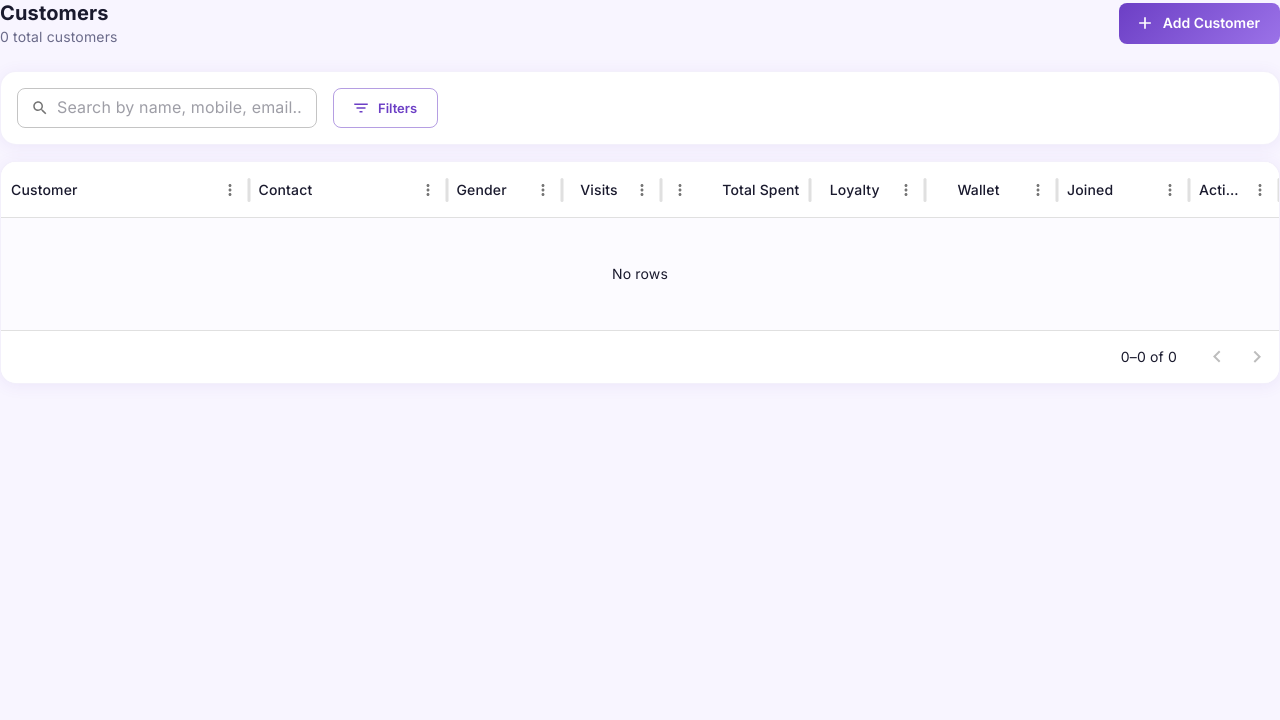
Scenario: CustomersPage – Add Customer dialog › shows validation errors when submitting empty form
This screenshot has width=1280, height=720.
Click the button "Add Customer": (1199, 23) [1119,3,1279,44]
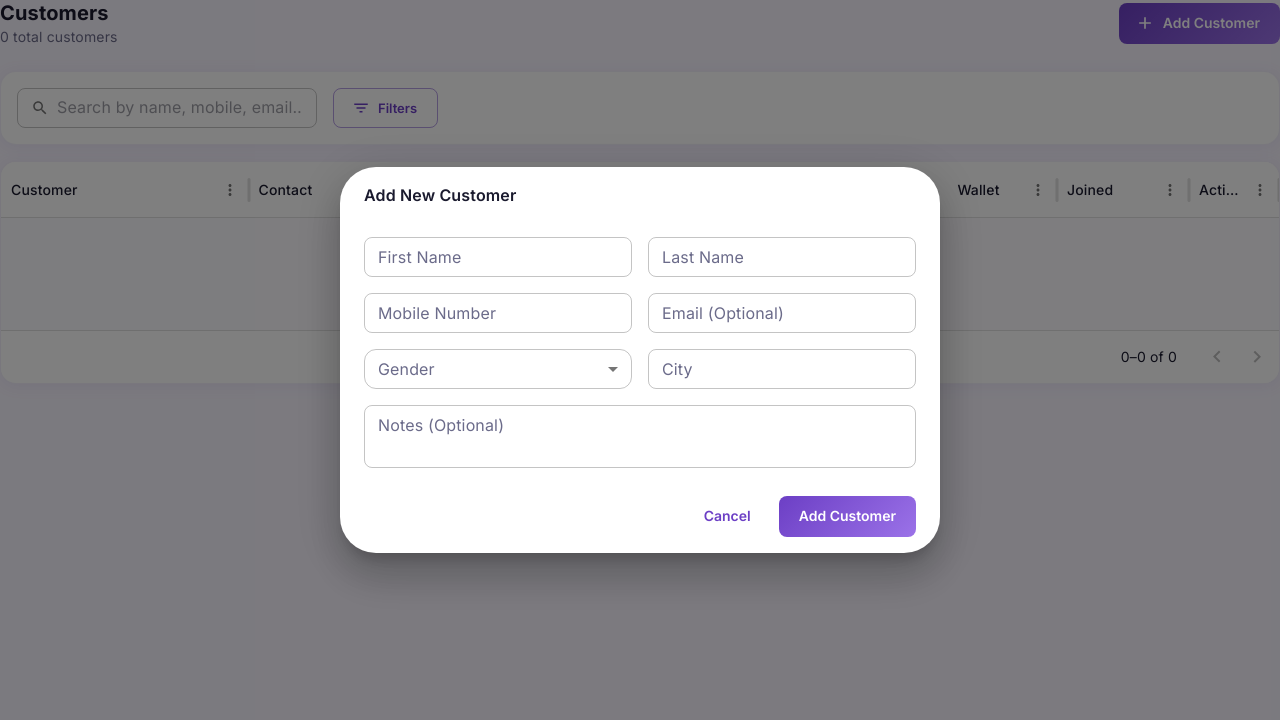
Now the dialog is shown, box [340,168,940,553]
# Submit without filling any fields
Click the button "Add Customer": (847, 516) [779,496,916,536]
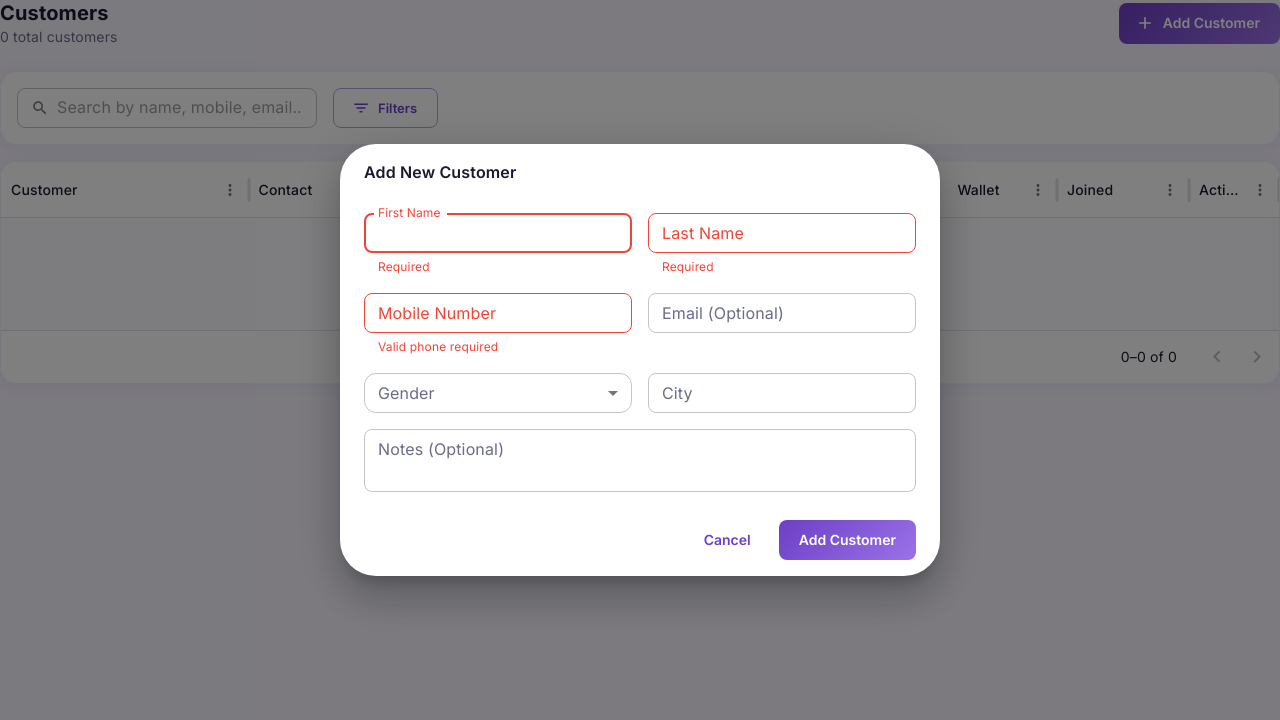
Now the text "Required" below "First Name" is shown, box [378,259,430,274]
